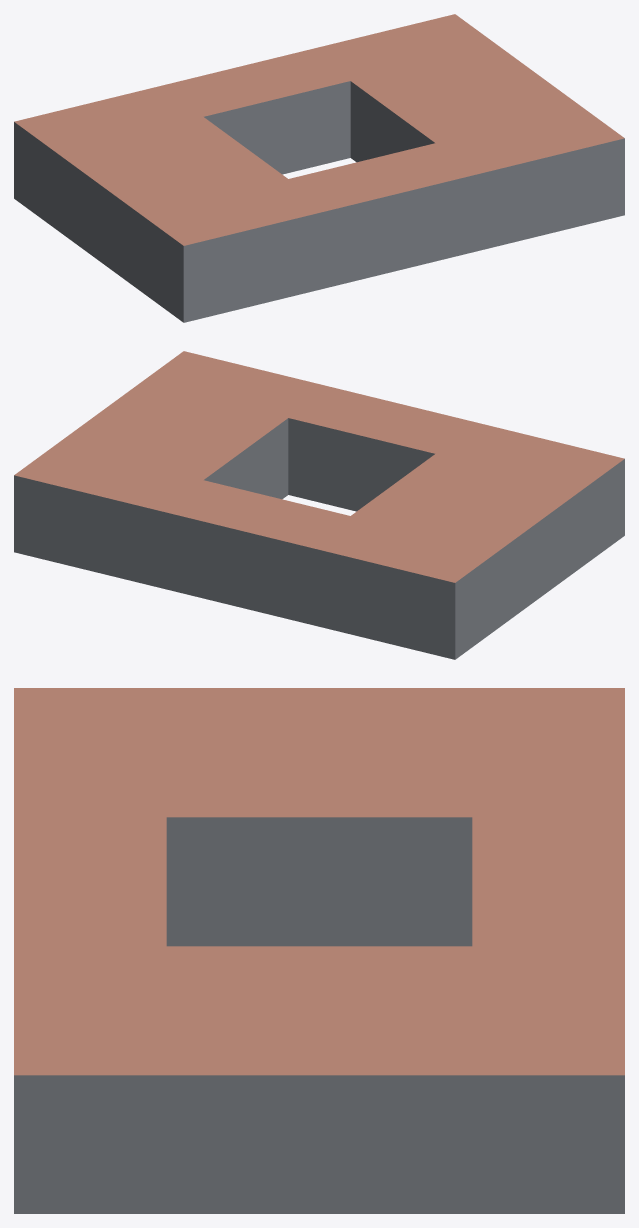
Rendered from structure-floor.glb.
The picture shows the model from 3 angles, top to bottom: view 1: azimuth 30°, elevation 25°; view 2: azimuth 150°, elevation 25°; view 3: azimuth 270°, elevation 25°; orthographic projection. The views are drawn at different scales.
Parts seen in each view (by area): view 1: Finish_floor_granite, Finish_floor_concrete; view 2: Finish_floor_granite, Finish_floor_concrete; view 3: Finish_floor_granite, Finish_floor_concrete.
Boxes of the visible parts, x1=… form: Finish_floor_granite: x1=14, y1=14, x2=624, y2=245; Finish_floor_concrete: x1=14, y1=81, x2=624, y2=322; Finish_floor_granite: x1=14, y1=351, x2=624, y2=582; Finish_floor_concrete: x1=14, y1=418, x2=624, y2=659; Finish_floor_granite: x1=14, y1=688, x2=624, y2=1075; Finish_floor_concrete: x1=14, y1=817, x2=624, y2=1213.
Size of the model in its own units: 6 by 1 by 4.
